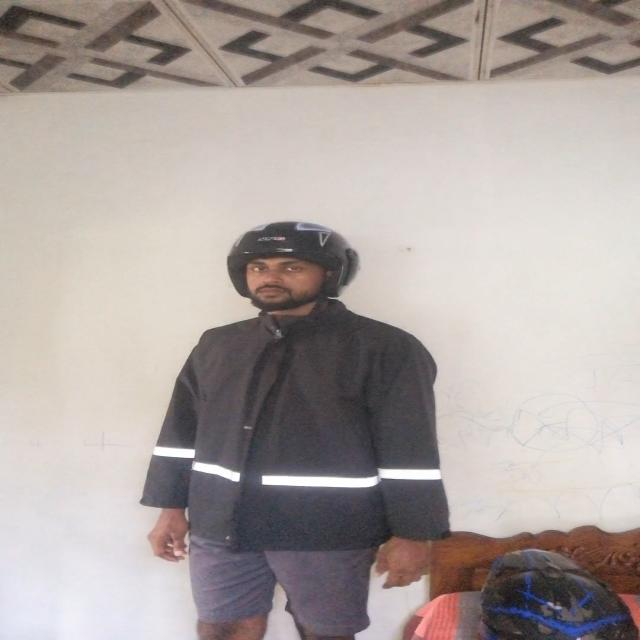Helmet_Wearer: (197, 212, 375, 323)
Jacket_Wearer: (142, 305, 471, 577)
Person: (147, 210, 452, 639)
